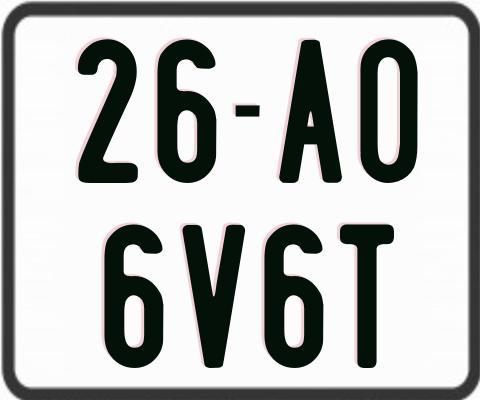0: (359, 38, 421, 185)
2: (77, 38, 143, 183)
6: (155, 37, 219, 183), (261, 222, 323, 371), (103, 221, 162, 371)
A: (278, 40, 346, 184)
T: (338, 221, 392, 365)
V: (181, 222, 248, 371)
